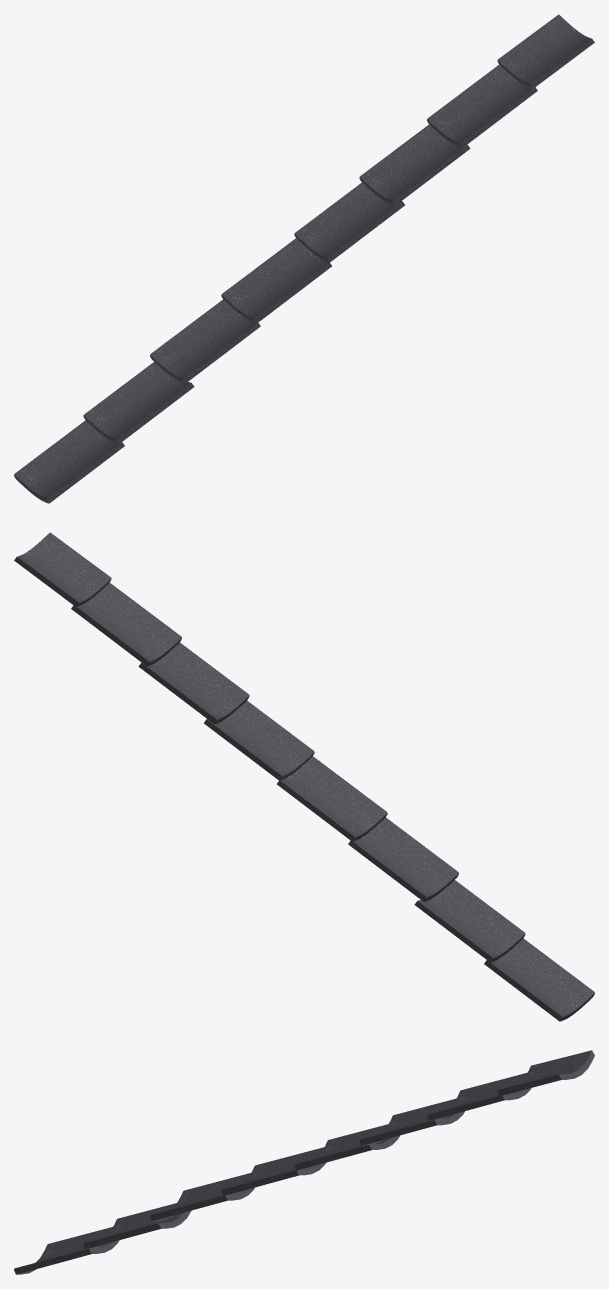
Rendered from SM_Roof_37.fbx.
The picture shows the model from 3 angles, top to bottom: view 1: azimuth 30°, elevation 25°; view 2: azimuth 150°, elevation 25°; view 3: azimuth 330°, elevation 25°; orthographic projection.
Visible parts, largest first — view 1: SM_Roof_37; view 2: SM_Roof_37; view 3: SM_Roof_37.
Boxes of the visible parts, x1,y1,x2,y2 form: SM_Roof_37: (14, 14, 594, 503); SM_Roof_37: (14, 532, 594, 1021); SM_Roof_37: (14, 1050, 594, 1274).
Bounding box in the file's own units: 317 × 33.08 × 186.
1 material, 1 textured.
